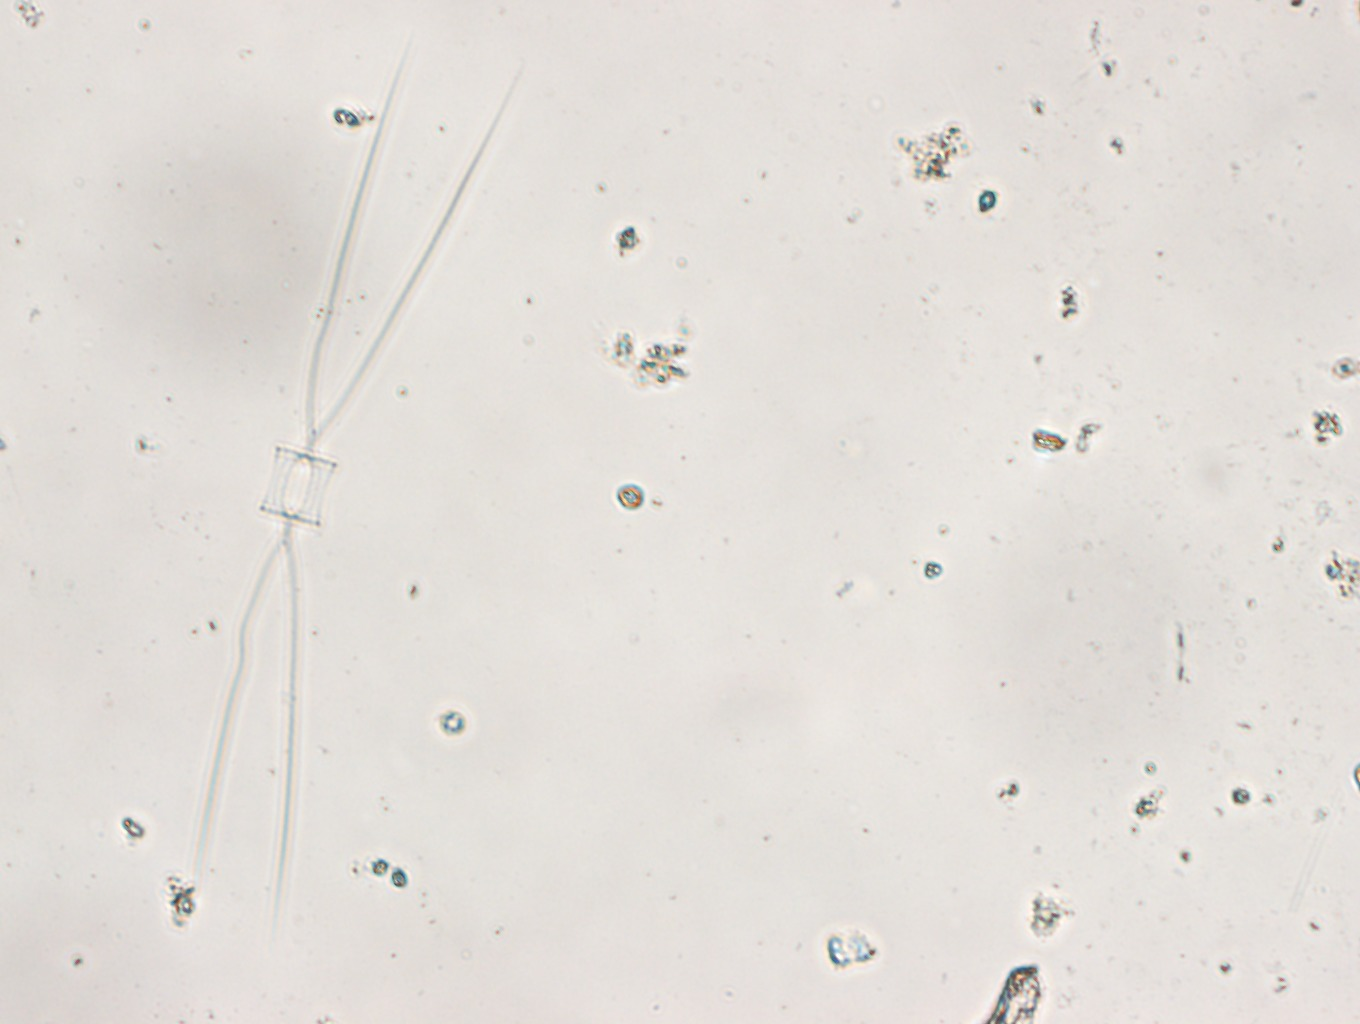chaetoceros: (181, 39, 521, 886)
